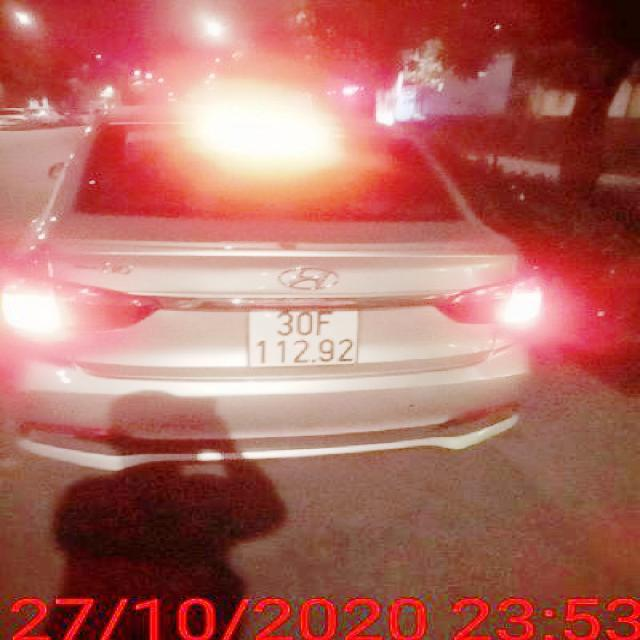license_plate: (249, 309, 360, 368)
